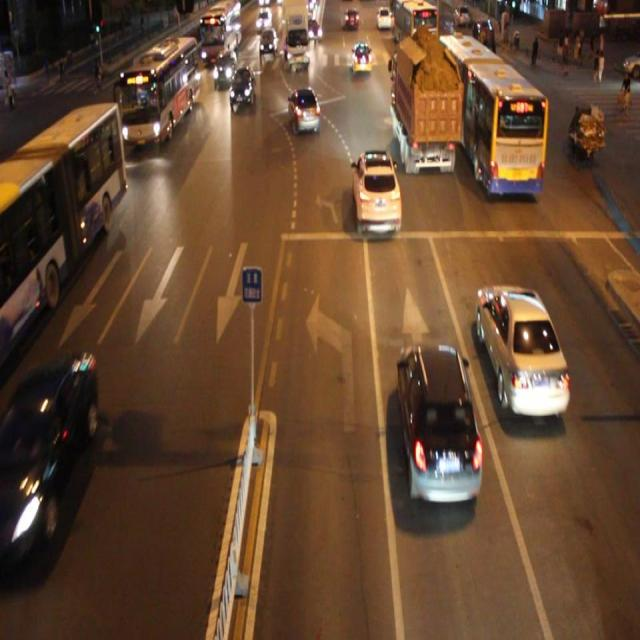bus: (391, 40, 456, 173)
car: (0, 355, 96, 564), (399, 342, 481, 503), (476, 282, 569, 417), (352, 149, 401, 236), (288, 87, 320, 135), (228, 65, 256, 112), (211, 48, 238, 88)
van: (1, 103, 122, 360), (437, 34, 544, 197), (114, 35, 198, 145)
